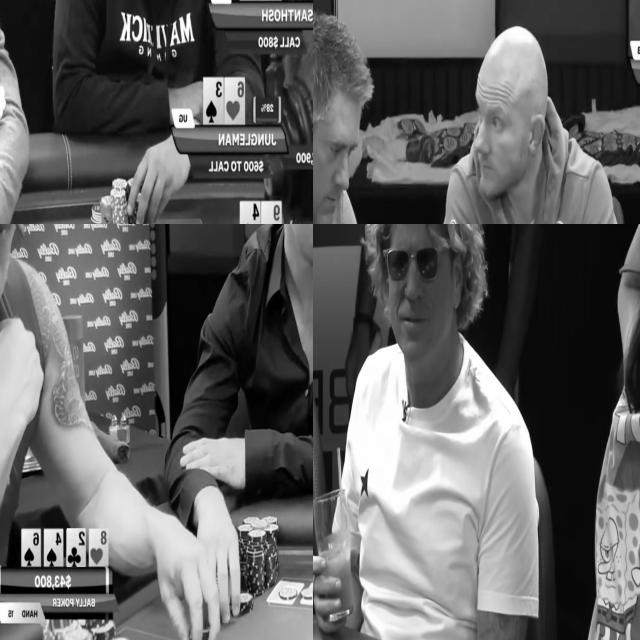2C: (67, 528, 85, 567)
3S: (204, 79, 223, 124)
4S: (44, 529, 63, 567), (241, 201, 259, 224)
6H: (226, 79, 244, 123)
6S: (22, 530, 40, 567)
8H: (89, 529, 108, 567)
9H: (261, 203, 281, 224)
